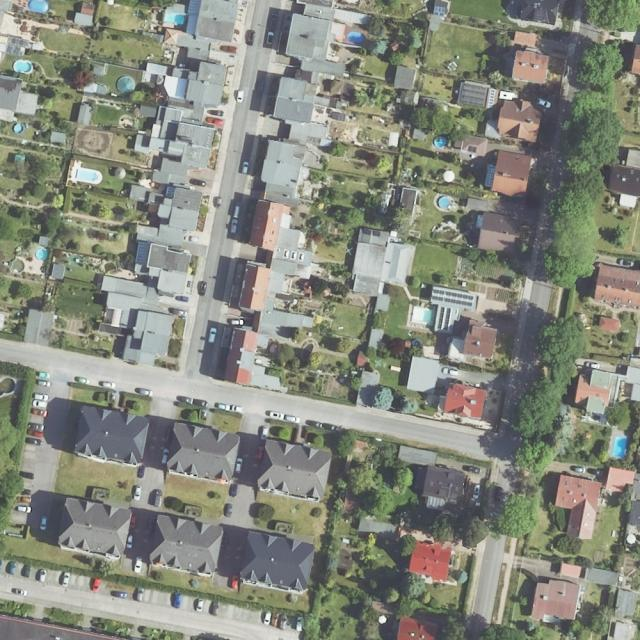PV: (430, 287, 474, 308), (437, 306, 452, 331), (136, 242, 150, 266), (433, 6, 446, 17), (166, 188, 173, 197)
ST: (468, 145, 476, 152)
